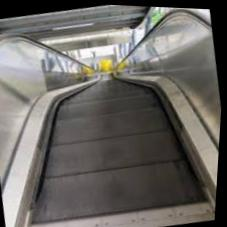Animal: (45, 42, 171, 142)
